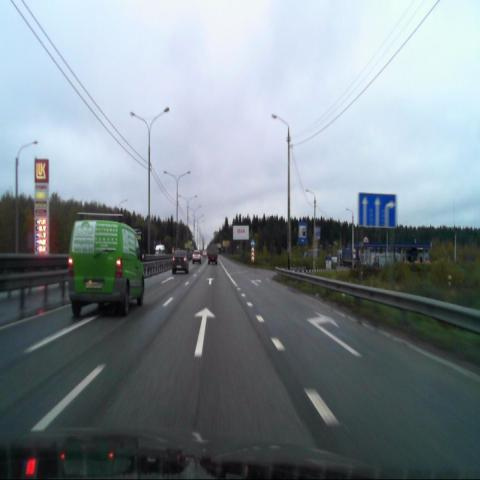5_15_1: (357, 193, 397, 227)
